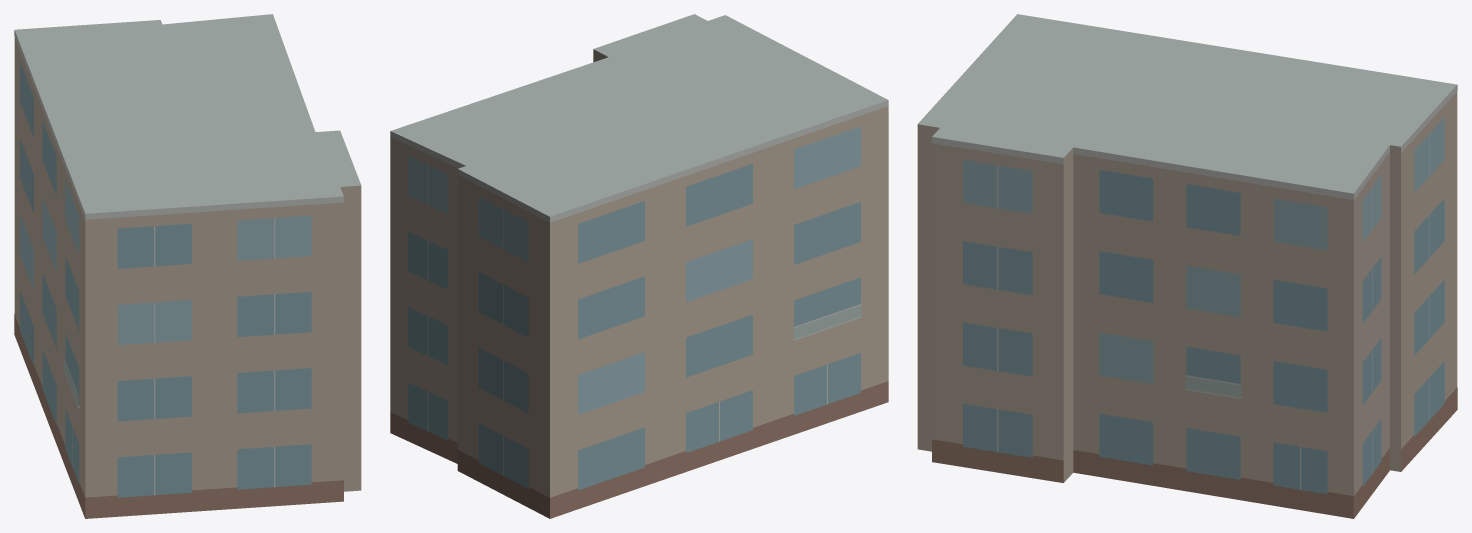
The model's file is survey-upis-32888415.glb.
3 renders of one model, left to right at view 1: azimuth 30°, elevation 25°; view 2: azimuth 150°, elevation 25°; view 3: azimuth 270°, elevation 25°, orthographic. The views are drawn at different scales.
Visible parts, largest first — view 1: survey-upis-32888415.tmp; view 2: survey-upis-32888415.tmp; view 3: survey-upis-32888415.tmp.
Part boxes in pixels (<box>): survey-upis-32888415.tmp: <box>14,14,361,518</box>; survey-upis-32888415.tmp: <box>390,14,888,518</box>; survey-upis-32888415.tmp: <box>917,14,1457,518</box>.
Size of the model in its own units: 14.71 by 12.4 by 18.67.
